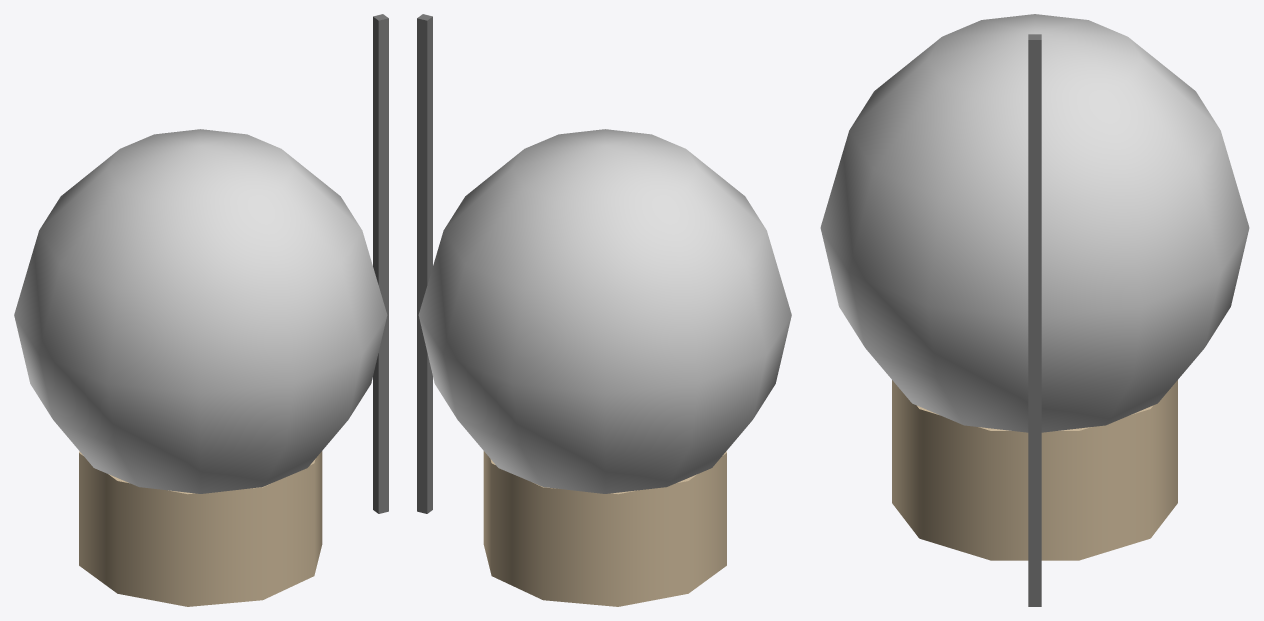
File: roofprop.fbx
3 renders of one model, left to right at view 1: azimuth 30°, elevation 25°; view 2: azimuth 150°, elevation 25°; view 3: azimuth 270°, elevation 25°, orthographic. The views are drawn at different scales.
Parts seen in each view (by area): view 1: a2012/400/roofprop; view 2: a2012/400/roofprop; view 3: a2012/400/roofprop.
Boxes of the visible parts, left/top/right/bottom form: a2012/400/roofprop: left=14, top=14, right=388, bottom=606; a2012/400/roofprop: left=417, top=14, right=791, bottom=606; a2012/400/roofprop: left=820, top=14, right=1249, bottom=606.
Size of the model in its own units: 5.15 by 7 by 4.8.
